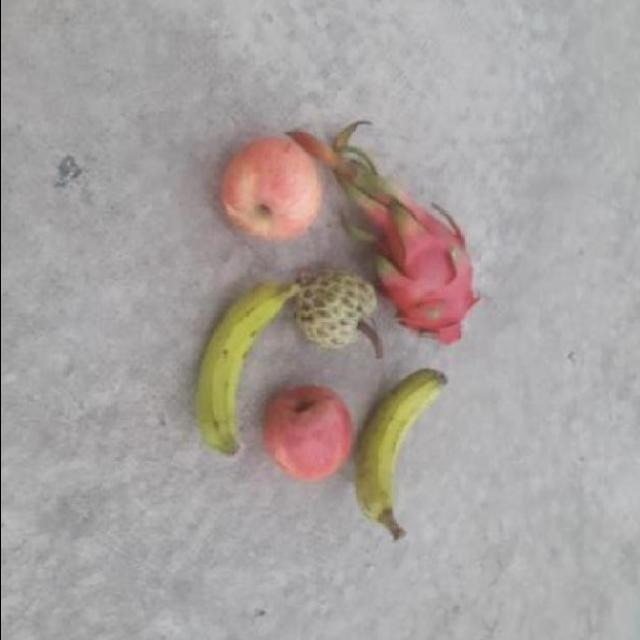apple: (216, 130, 322, 250)
banana: (192, 280, 290, 464), (352, 372, 442, 526), (255, 379, 353, 495)
dragon fruit: (382, 213, 476, 351)
sugar apple: (296, 267, 378, 353)
